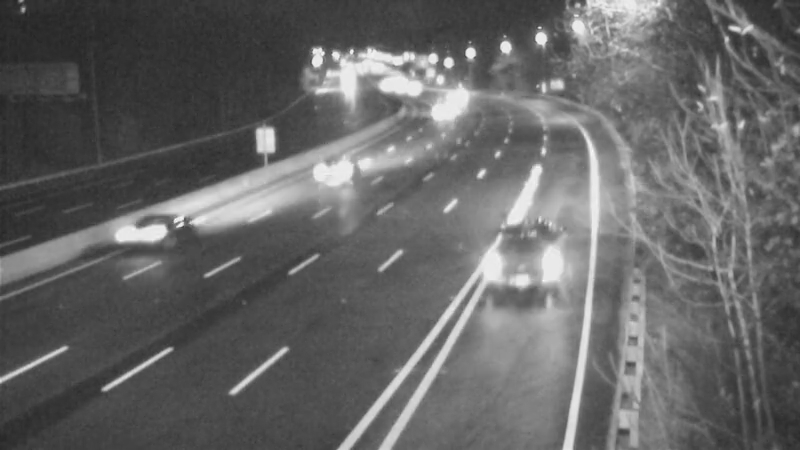vehicle: (300, 129, 380, 209), (478, 222, 558, 302), (106, 194, 186, 274), (385, 60, 435, 110), (430, 69, 480, 119), (417, 85, 467, 135)
